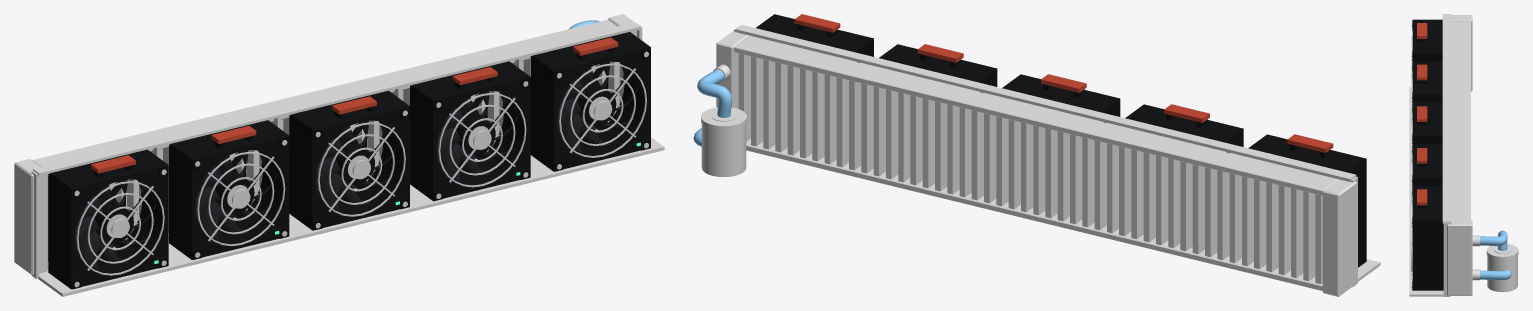
File: hwm_cool_direct_liquid.glb
3 views of the same model, side by side, from view 1: azimuth 30°, elevation 25°; view 2: azimuth 150°, elevation 25°; view 3: azimuth 270°, elevation 25° (orthographic). The views are drawn at different scales.
Visible parts, largest first — view 1: Body, Rotor_Z_1, Rotor_Z_4, Rotor_Z_3, Rotor_Z_2, Rotor_Z_0; view 2: Body, Flow_0; view 3: Body, Flow_0, Flow_1.
Boxes of the visible parts, left/top/right/bottom form: Body: left=14, top=14, right=664, bottom=296; Rotor_Z_1: left=195, top=150, right=277, bottom=240; Rotor_Z_4: left=557, top=62, right=638, bottom=151; Rotor_Z_3: left=436, top=91, right=518, bottom=181; Rotor_Z_2: left=316, top=120, right=397, bottom=210; Rotor_Z_0: left=74, top=179, right=156, bottom=269; Body: left=701, top=14, right=1380, bottom=296; Flow_0: left=697, top=69, right=731, bottom=117; Body: left=1409, top=14, right=1518, bottom=296; Flow_0: left=1480, top=230, right=1507, bottom=250; Flow_1: left=1480, top=270, right=1511, bottom=280.
Bounding box in the file's own units: 0.582 × 0.1033 × 0.1276.
